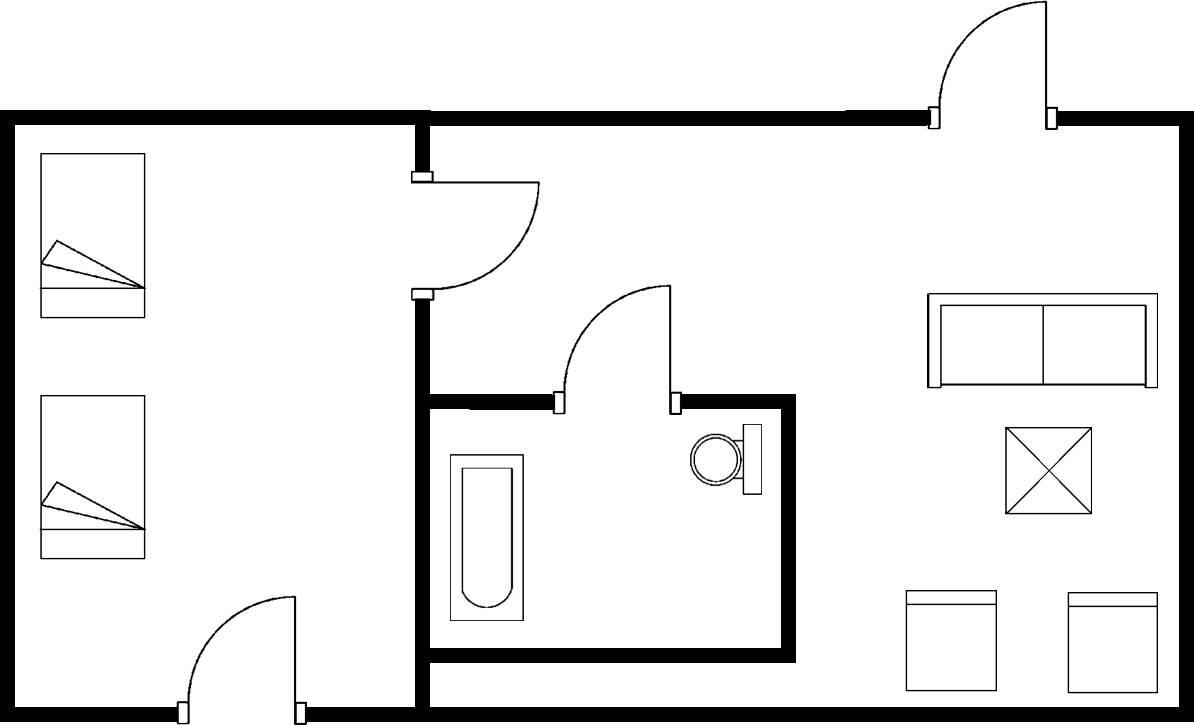bed: (33, 142, 151, 329), (33, 388, 152, 567)
sofa: (916, 282, 1164, 399)
toilet: (678, 417, 767, 501)
tub: (443, 447, 533, 629)
